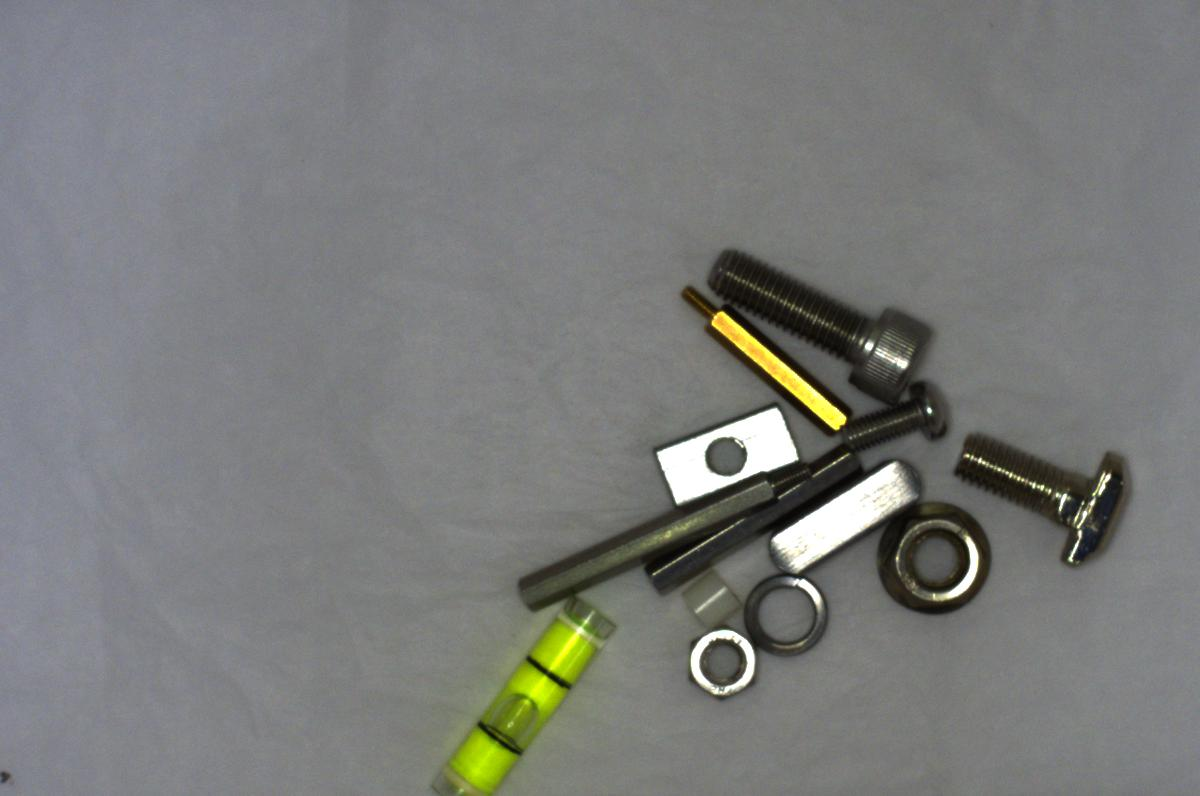Double hexagonal column: (646, 446, 860, 594)
Flange nut: (874, 486, 998, 623)
Hexagon nut: (674, 622, 758, 696)
Hexagon pillar: (671, 277, 851, 435)
Hexagon screw: (697, 236, 937, 401)
Horizontal bubble: (423, 596, 616, 795)
Keybar: (766, 454, 942, 569)
Plastic cushion pillar: (675, 571, 743, 628)
Rectangular nut: (648, 395, 808, 505)
Round head screw: (838, 387, 957, 462)
Spring washer: (735, 572, 838, 659)
T-shaped screw: (944, 426, 1133, 568)
